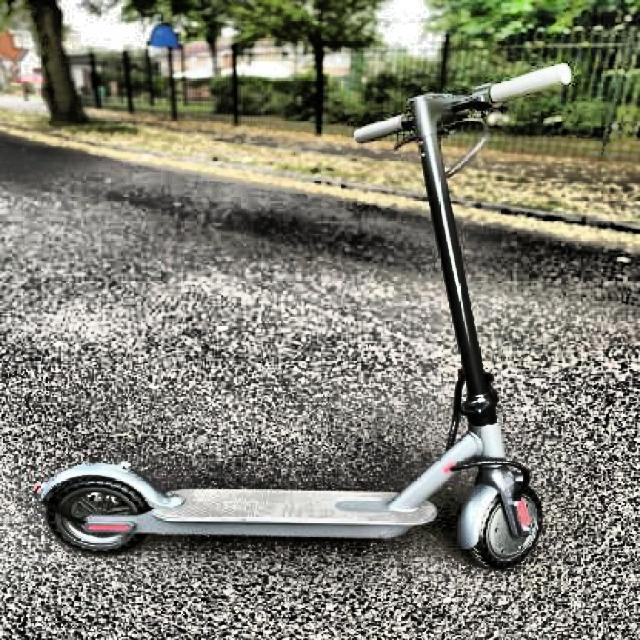bike: (15, 59, 577, 570)
